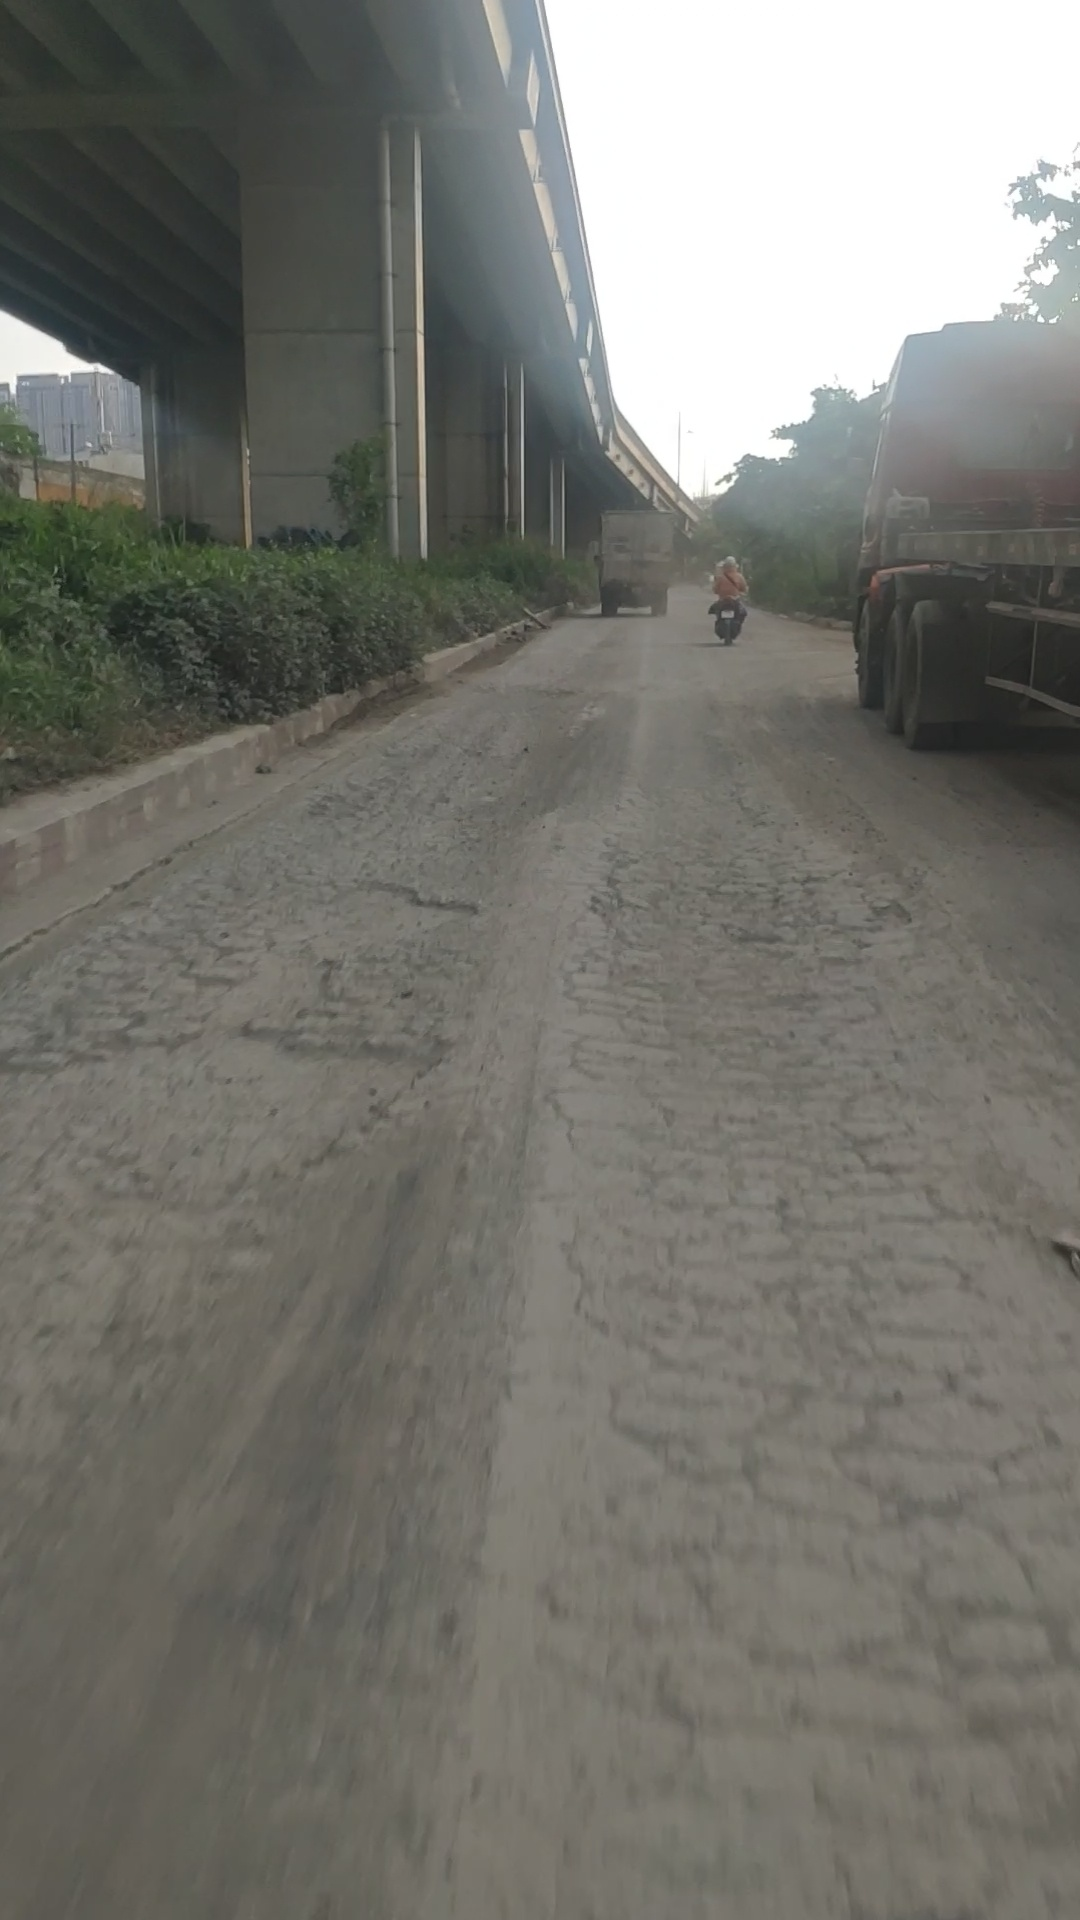hole: (520, 855, 1080, 1920), (1, 1027, 467, 1191), (316, 684, 615, 848), (189, 877, 488, 996)
